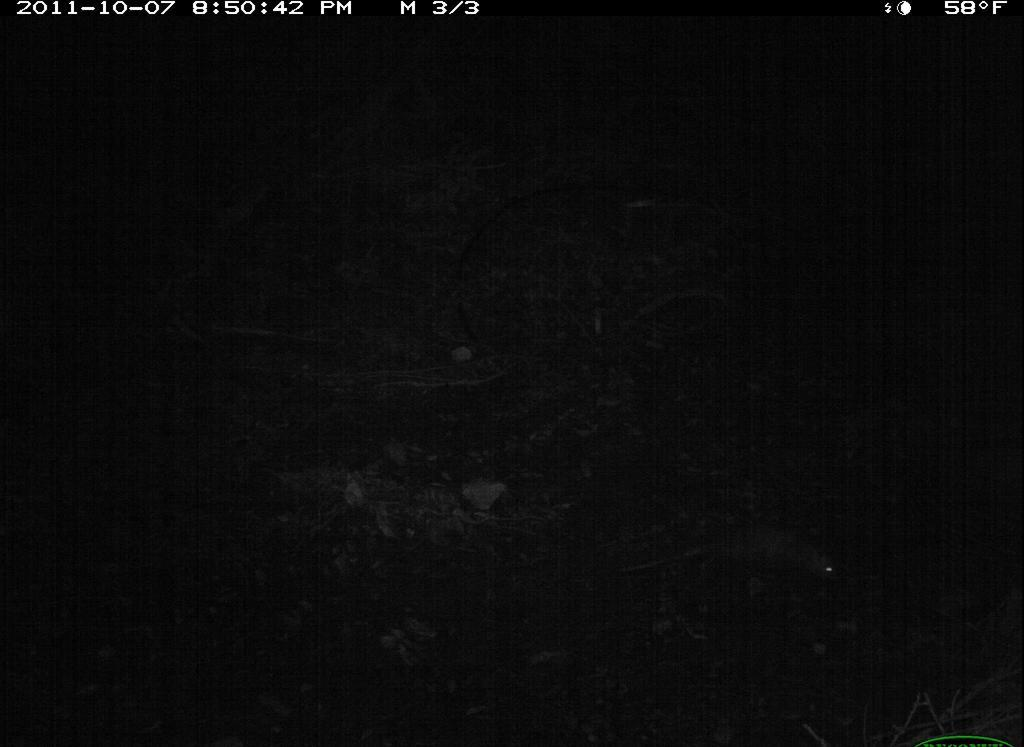opossum: (618, 518, 857, 609)
